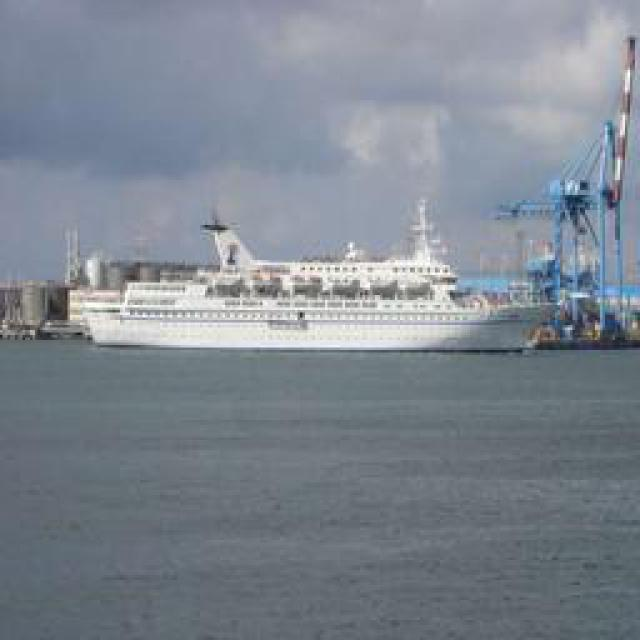Ship: (80, 201, 563, 351)
